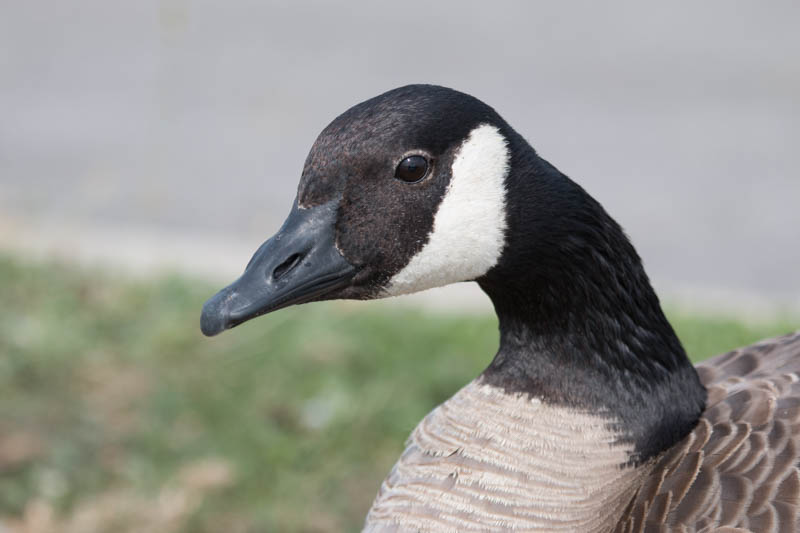goose-head: (200, 83, 544, 338)
